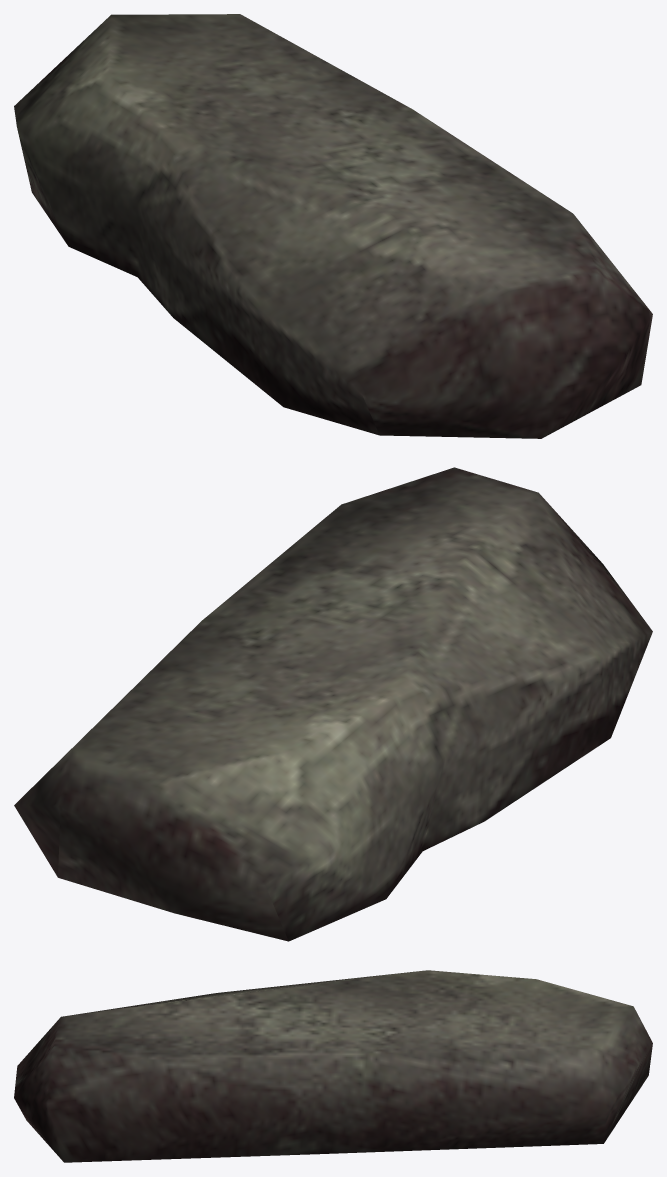
The model's file is Scene_Rock_06.FBX.
The picture shows the model from 3 angles, top to bottom: view 1: azimuth 30°, elevation 25°; view 2: azimuth 150°, elevation 25°; view 3: azimuth 270°, elevation 25°; orthographic projection. The views are drawn at different scales.
Visible parts, largest first — view 1: Scene_Rock_06; view 2: Scene_Rock_06; view 3: Scene_Rock_06.
Boxes of the visible parts, x1,y1,x2,y2 form: Scene_Rock_06: [14, 14, 652, 438]; Scene_Rock_06: [14, 467, 652, 941]; Scene_Rock_06: [14, 970, 652, 1162].
Bounding box in the file's own units: 1.2 × 0.5655 × 2.9.
